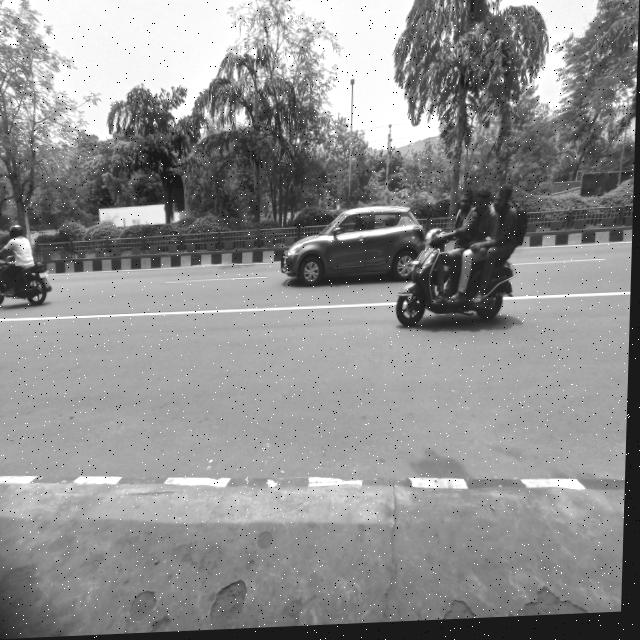bike: (391, 228, 517, 333), (0, 246, 55, 316)
car: (278, 194, 427, 291)
